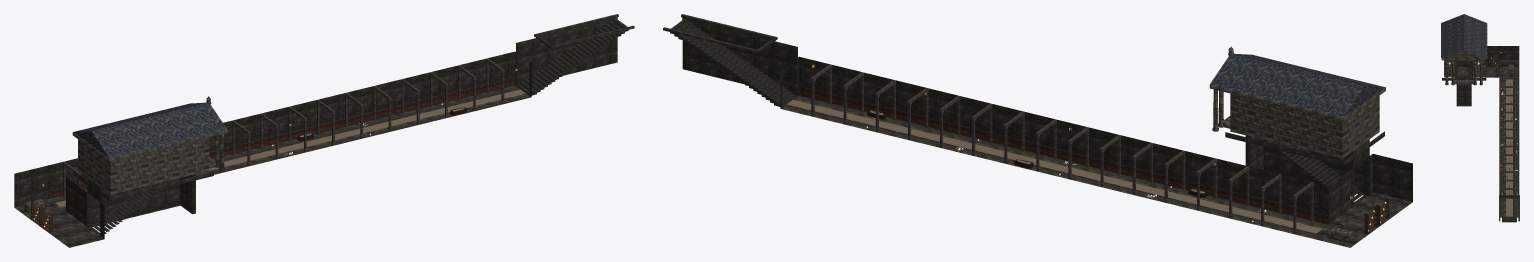
Rendered from crypt.glb.
3 renders of one model, left to right at view 1: azimuth 30°, elevation 25°; view 2: azimuth 150°, elevation 25°; view 3: azimuth 270°, elevation 25°, orthographic. The views are drawn at different scales.
Visible parts, largest first — view 1: crypt; view 2: crypt; view 3: crypt.
Part boxes in pixels (x1,y1,x2,y2): crypt: (14,14,634,247); crypt: (663,14,1412,247); crypt: (1441,14,1519,222).
Size of the model in its own units: 85.55 by 14.7 by 15.7.
Materials: 25 (20 with a texture image).
